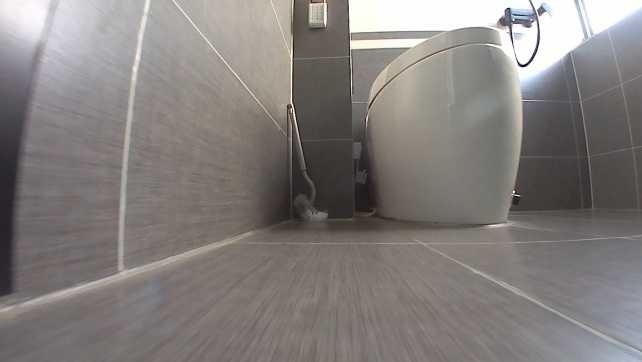toilet: (362, 22, 525, 228)
